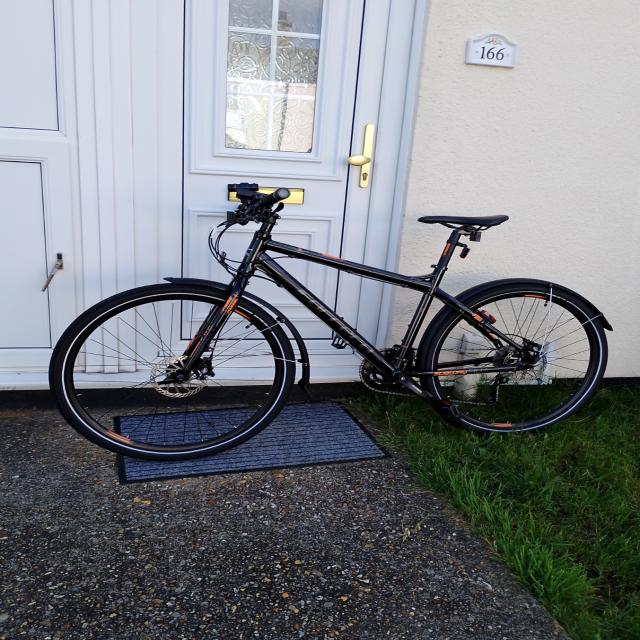bicycle: (48, 182, 613, 461)
